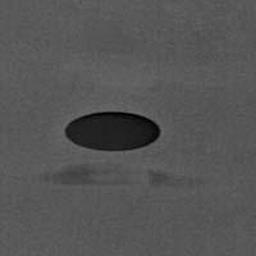Punching: (65, 111, 163, 154)
